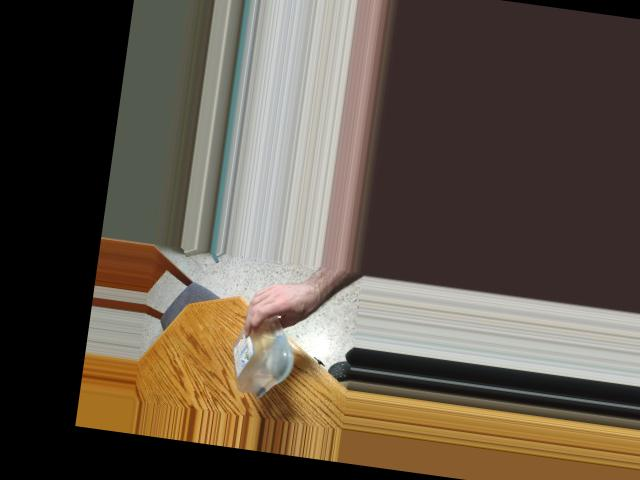cheese: (230, 298, 293, 395)
